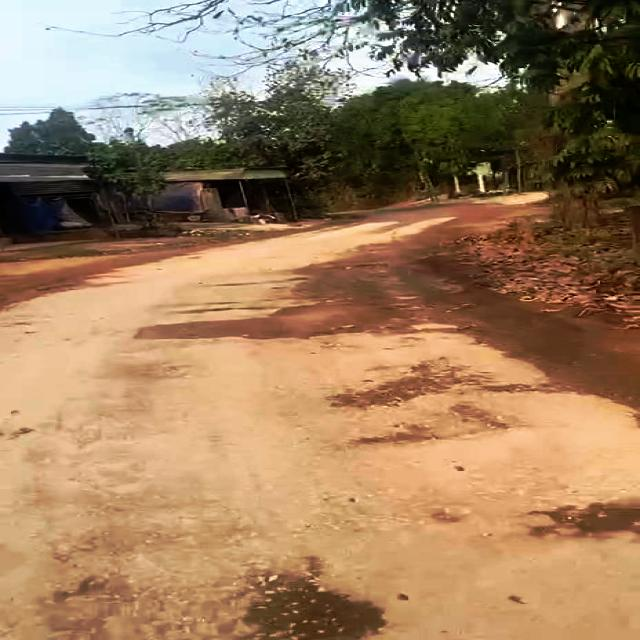pothole: (130, 291, 397, 348), (248, 582, 383, 640), (346, 361, 472, 407), (543, 488, 640, 544)
